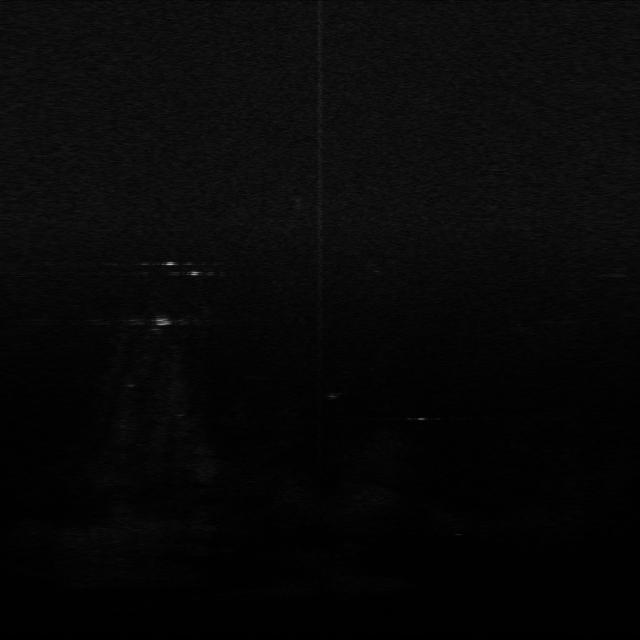rov: (152, 315, 176, 327)
